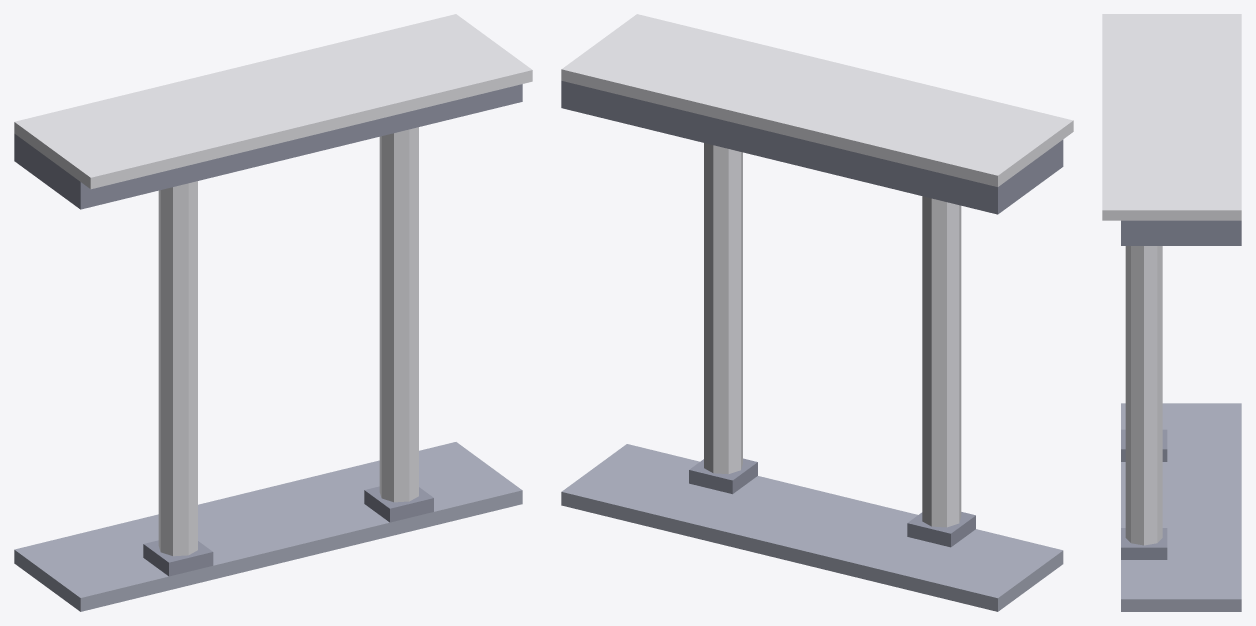
The model's file is colonnade.glb.
3 renders of one model, left to right at view 1: azimuth 30°, elevation 25°; view 2: azimuth 150°, elevation 25°; view 3: azimuth 270°, elevation 25°, orthographic. The views are drawn at different scales.
Parts seen in each view (by area): view 1: colonnade; view 2: colonnade; view 3: colonnade.
Boxes of the visible parts, x1,y1,x2,y2 form: colonnade: (14,14,532,611); colonnade: (561,14,1073,611); colonnade: (1102,14,1241,611).
Size of the model in its own units: 1 by 0.955 by 0.3.
Materials: 1 (1 with a texture image).
